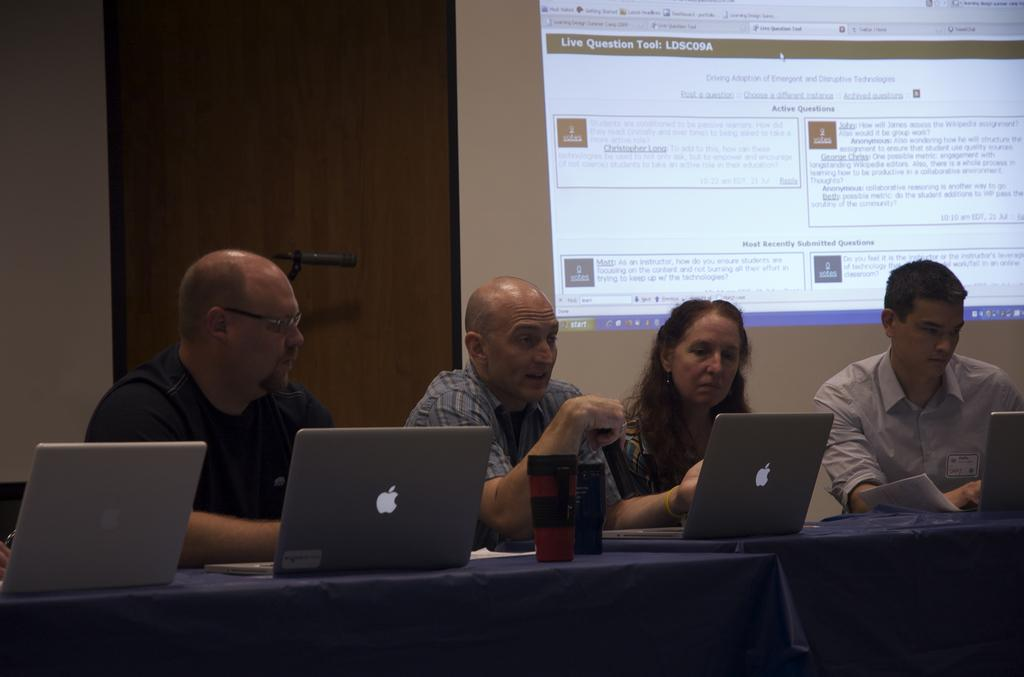Laptop: (252, 428, 486, 583), (0, 444, 207, 596), (602, 412, 833, 542), (959, 408, 1023, 510)
